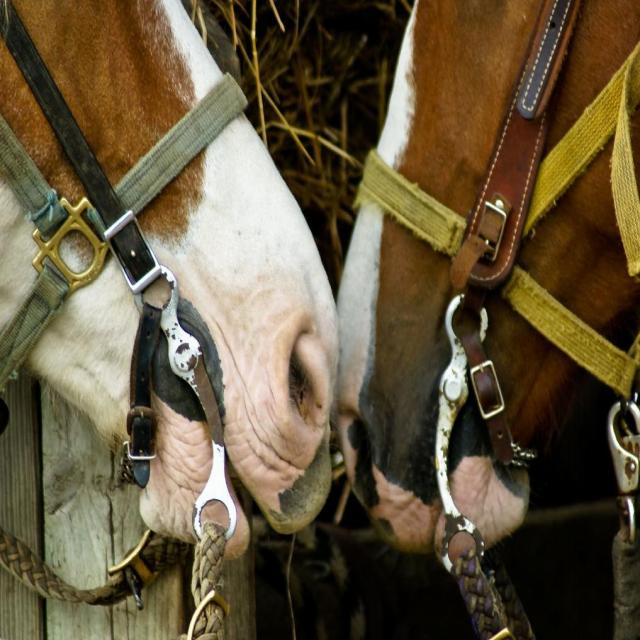Horse: (0, 0, 341, 562), (334, 0, 638, 563)
